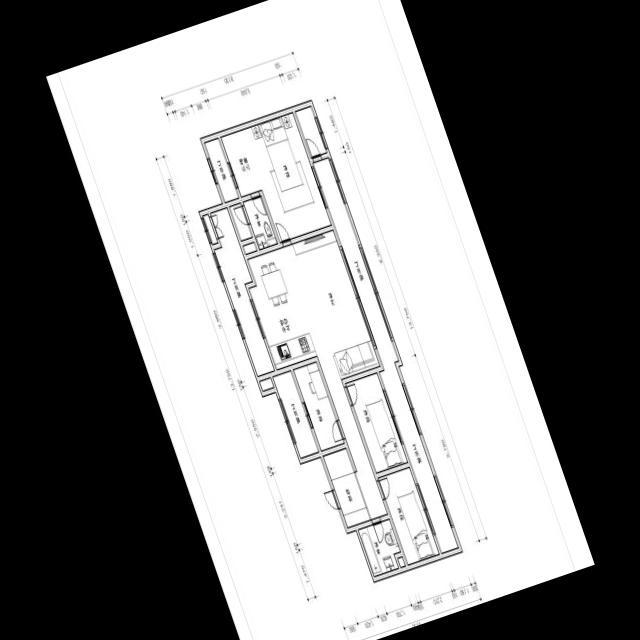background: (46, 0, 594, 640)
space_balconi: (313, 157, 458, 552), (210, 207, 274, 375), (273, 370, 318, 457), (204, 138, 238, 201)
space_bedroom: (241, 112, 331, 241), (345, 372, 407, 471), (378, 467, 438, 563), (293, 361, 343, 449)
space_dressroom: (221, 130, 261, 195)
space_front: (323, 448, 370, 526)
space_kitchen: (247, 248, 316, 368)
space_living_room: (280, 229, 387, 518)
space_other: (295, 106, 326, 156), (202, 214, 217, 243), (259, 377, 273, 389), (243, 242, 256, 253), (398, 556, 405, 566)
space_toilet: (358, 519, 400, 575), (243, 195, 277, 248), (229, 202, 252, 239)
